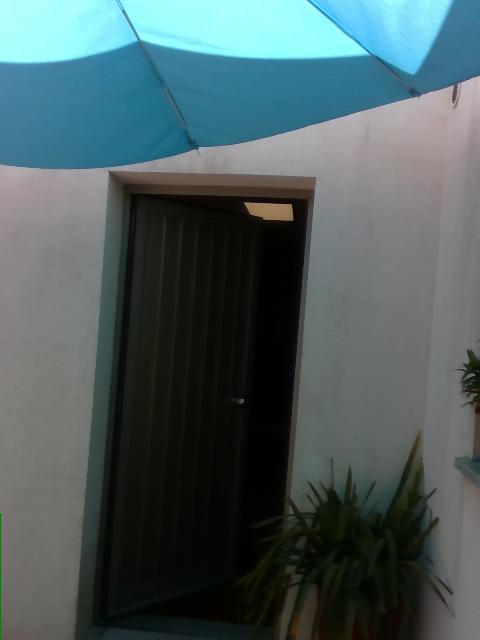semi_door: (71, 166, 315, 639)
